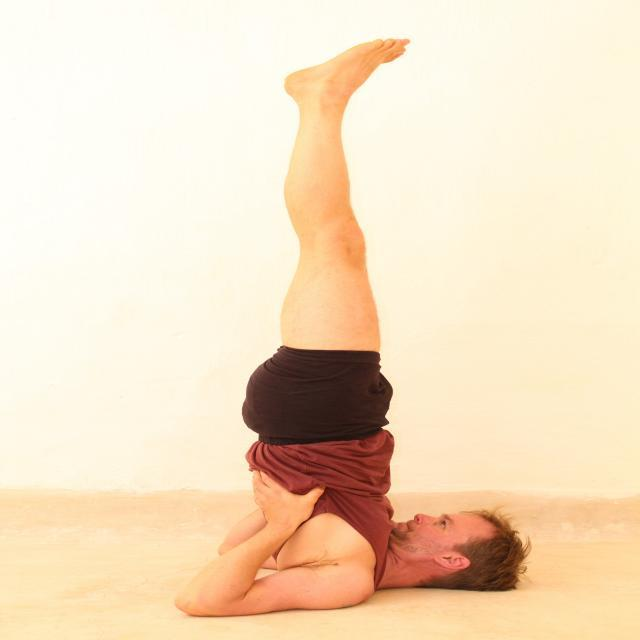yoga-pose shoulderstand: (171, 34, 528, 614)
